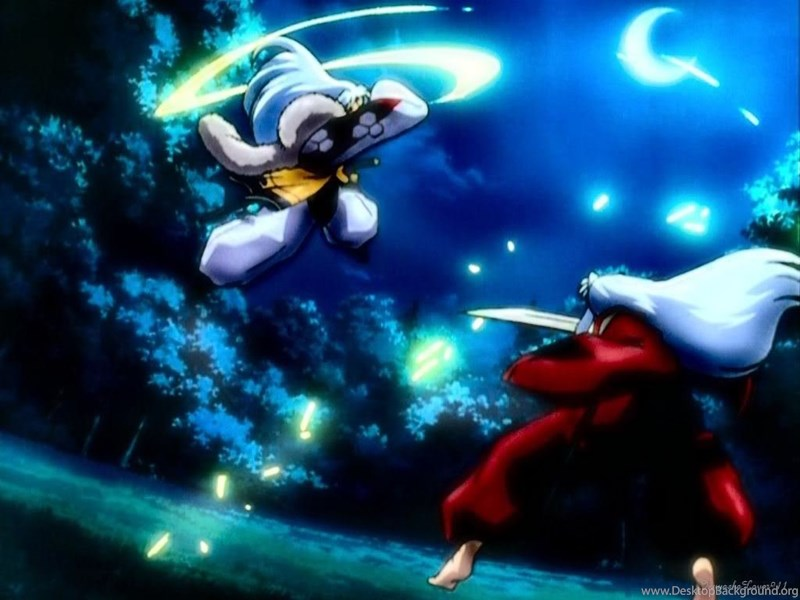sesshomaru: (187, 32, 430, 286)
